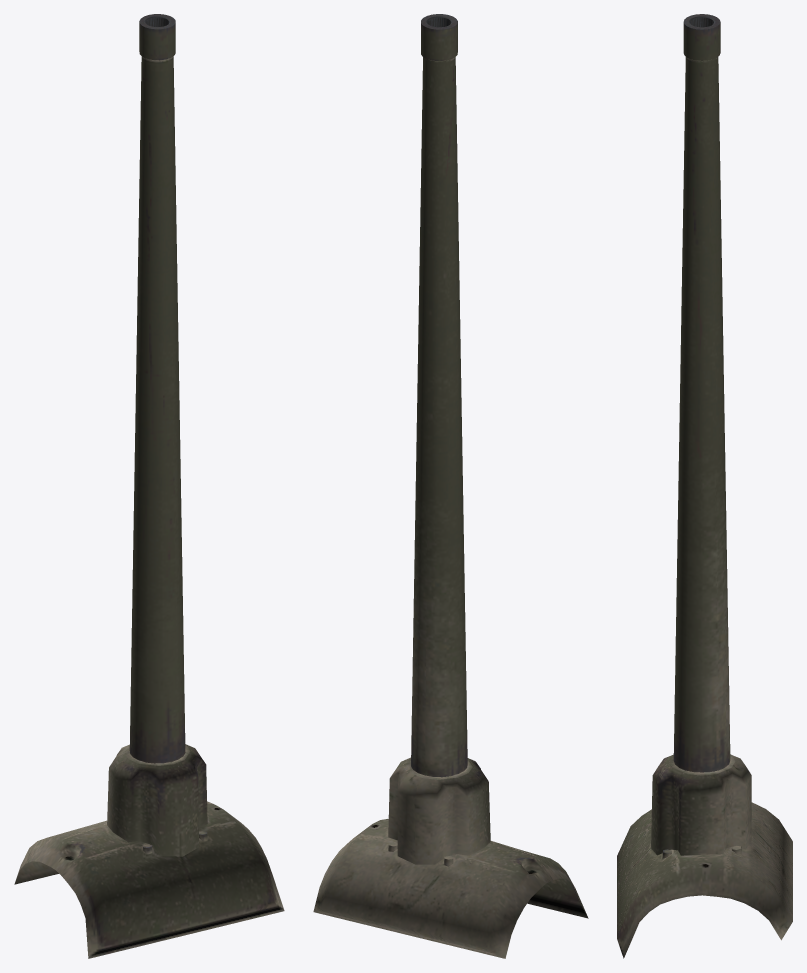
Rendered from Gun_03.glb.
3 views of the same model, side by side, from view 1: azimuth 30°, elevation 25°; view 2: azimuth 150°, elevation 25°; view 3: azimuth 270°, elevation 25° (orthographic).
Visible parts, largest first — view 1: set_0_group_0; view 2: set_0_group_0; view 3: set_0_group_0.
Boxes of the visible parts, x1,y1,x2,y2 form: set_0_group_0: (14,14,284,958); set_0_group_0: (313,14,588,958); set_0_group_0: (617,14,792,958).
Bounding box in the file's own units: 0.8174 × 3.51 × 0.6263.
Materials: 1 (1 with a texture image).
